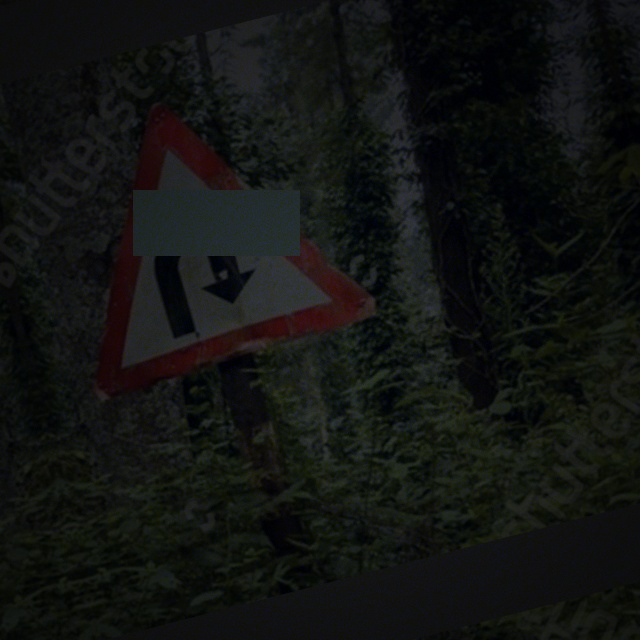Right_Hair_Pin_Bend: (32, 63, 377, 386)
